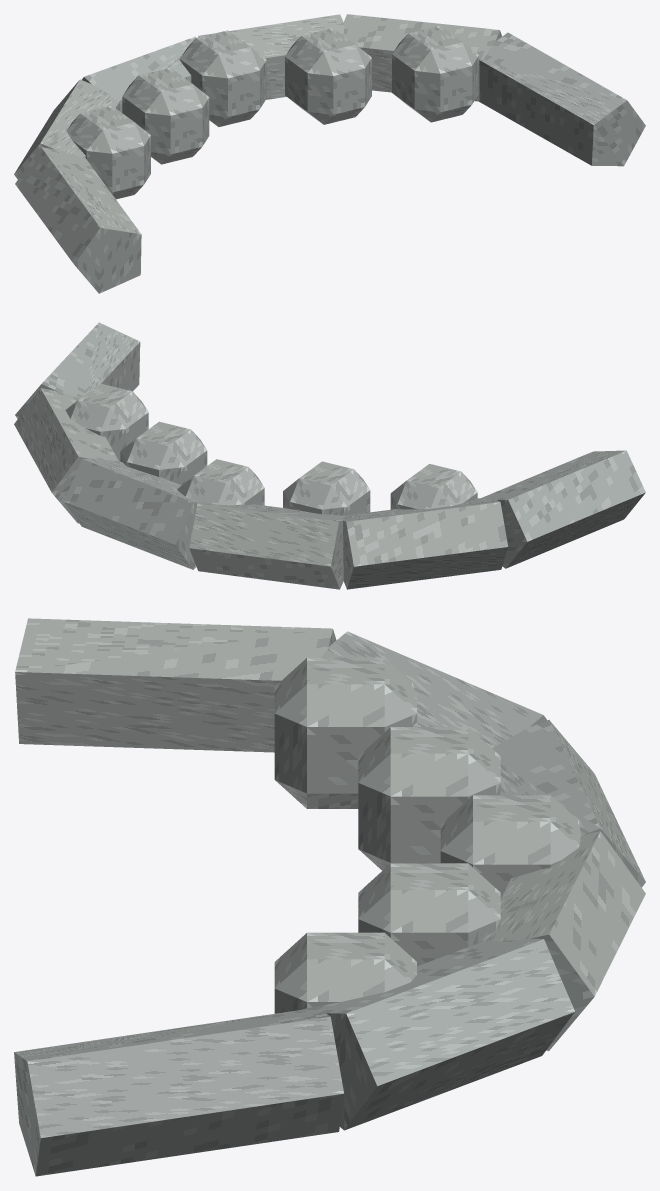
File: platinum_dental_grill.glb
3 views of the same model, one above another, from view 1: azimuth 30°, elevation 25°; view 2: azimuth 150°, elevation 25°; view 3: azimuth 270°, elevation 25° (orthographic). The views are drawn at different scales.
Visible parts, largest first — view 1: block_tooth cap (×5), block_dental curve 5, block_dental curve 0, block_dental curve 4, block_dental curve 3, block_dental curve 1, block_dental curve 2; view 2: block_tooth cap (×5), block_dental curve 1, block_dental curve 2, block_dental curve 0, block_dental curve 3, block_dental curve 4, block_dental curve 5; view 3: block_tooth cap (×5), block_dental curve 5, block_dental curve 0, block_dental curve 4, block_dental curve 3, block_dental curve 2, block_dental curve 1.
Boxes of the visible parts, x1,y1,x2,y2 form: block_tooth cap (×5): (66,25,478,199); block_dental curve 5: (479,32,645,166); block_dental curve 0: (15,147,141,293); block_dental curve 4: (343,14,502,101); block_dental curve 3: (198,14,344,99); block_dental curve 1: (14,79,119,179); block_dental curve 2: (82,36,196,112); block_tooth cap (×5): (65,383,477,515); block_dental curve 1: (343,498,508,589); block_dental curve 2: (189,502,343,589); block_dental curve 0: (482,450,645,568); block_dental curve 3: (64,458,200,569); block_dental curve 4: (14,388,118,523); block_dental curve 5: (15,322,140,418); block_tooth cap (×5): (274,657,580,1013); block_dental curve 5: (14,1010,344,1176); block_dental curve 0: (15,618,336,752); block_dental curve 4: (300,938,574,1130); block_dental curve 3: (479,831,645,1050); block_dental curve 2: (492,720,645,887); block_dental curve 1: (321,631,547,748).
Size of the model in its own units: 0.0487 by 0.00703 by 0.0271.
Materials: 1 (1 with a texture image).
